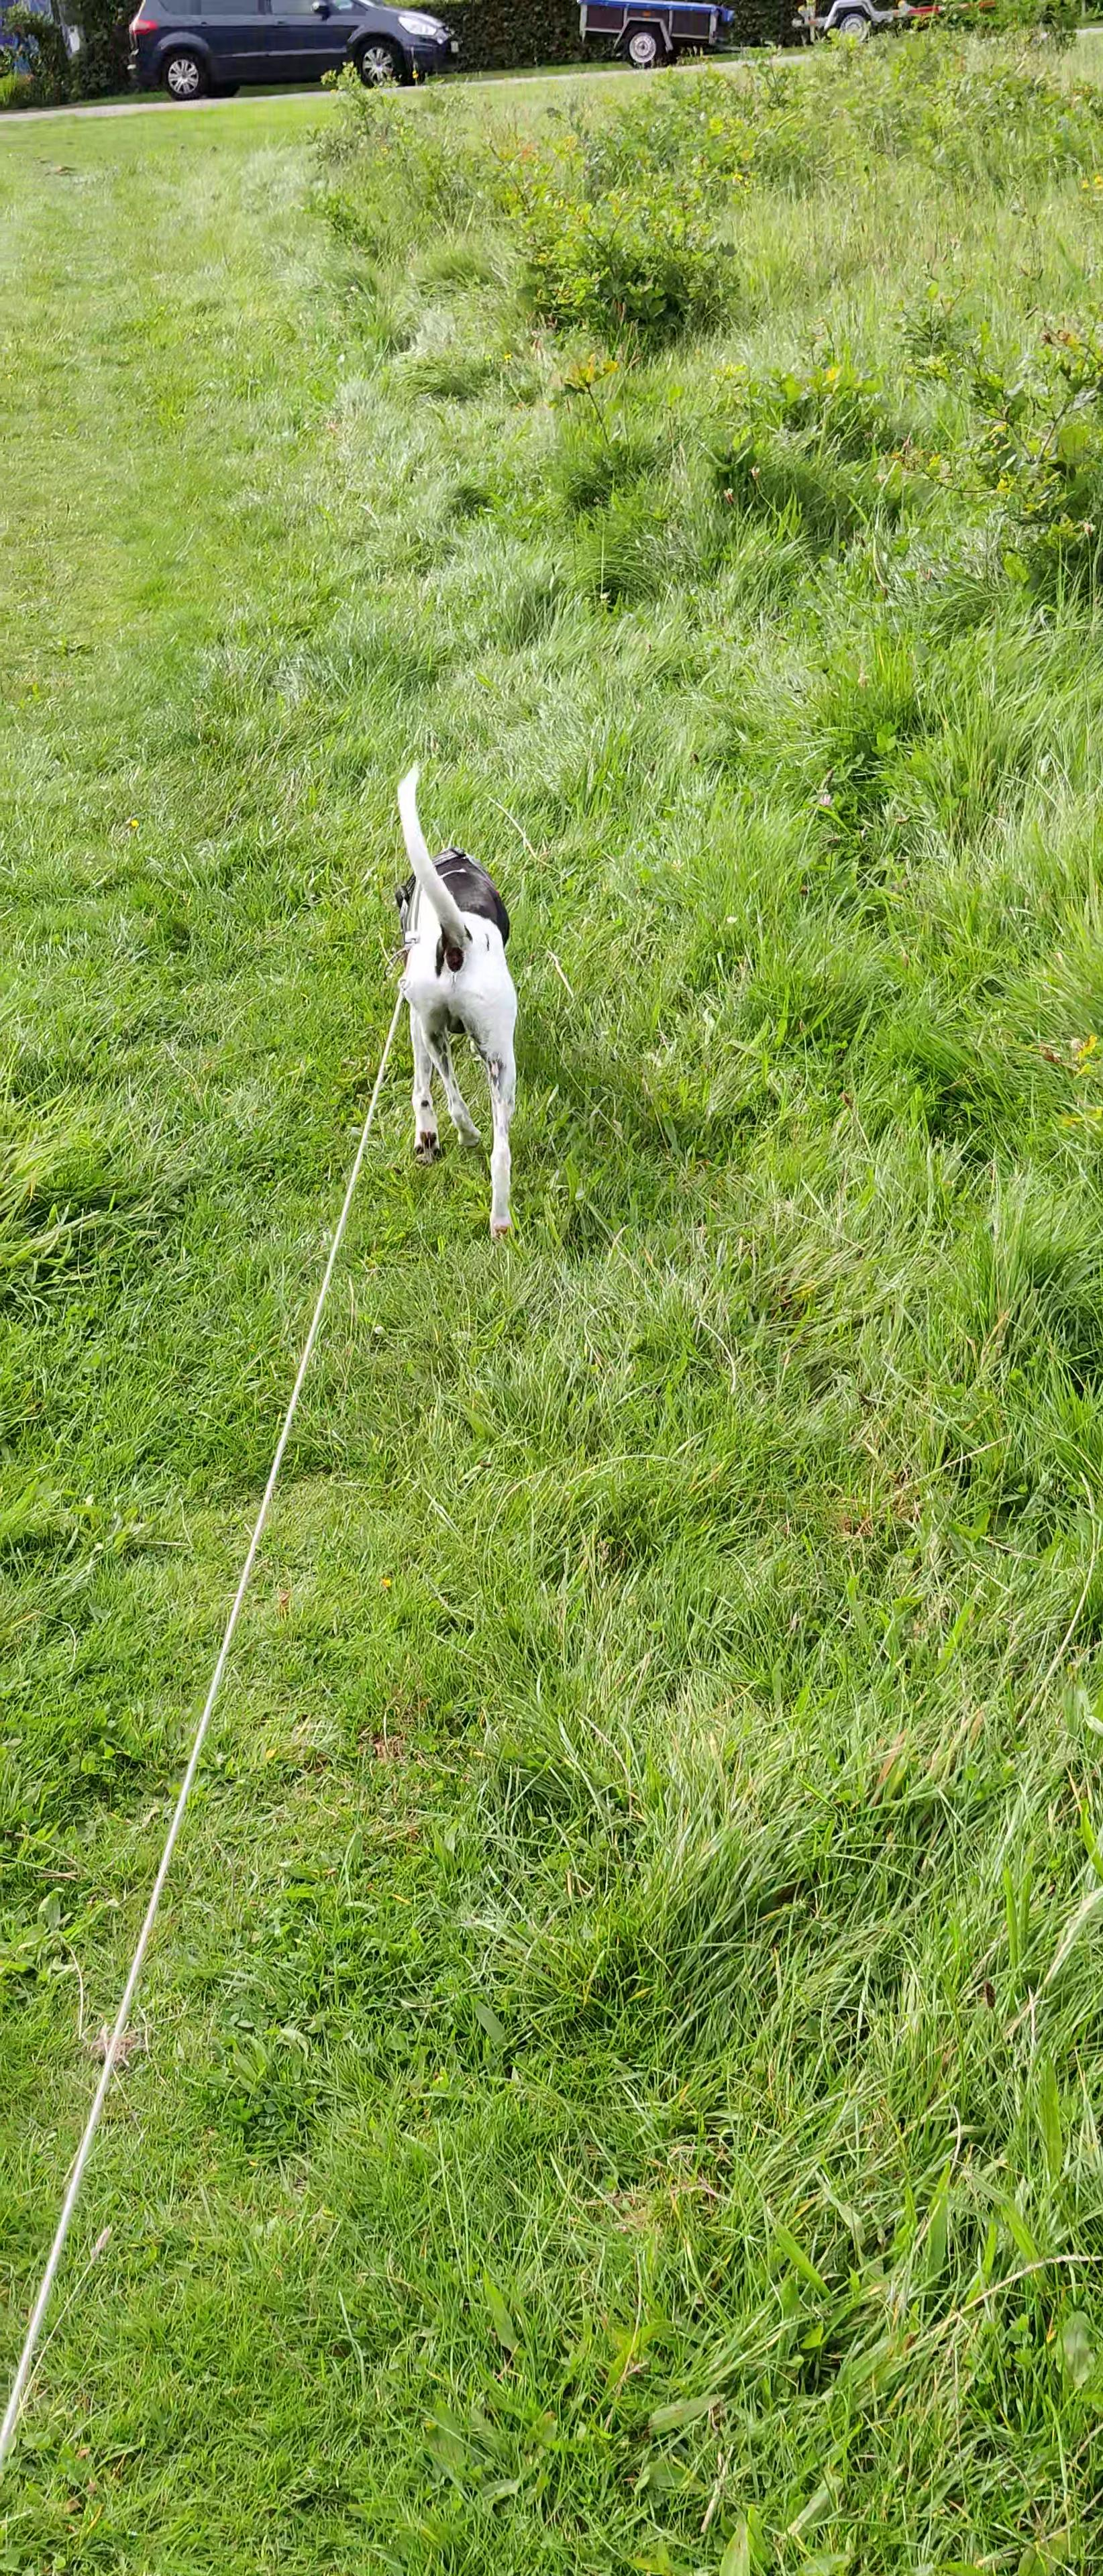Dog: (380, 746, 534, 1250)
